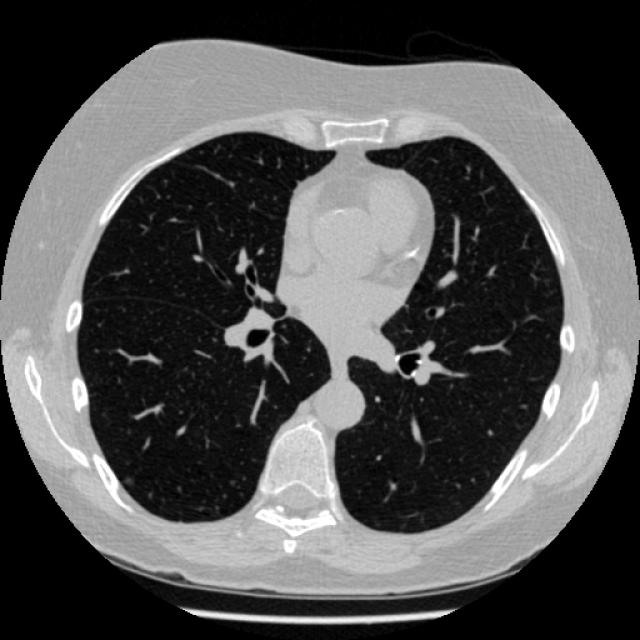nodule: (116, 468, 139, 490)
